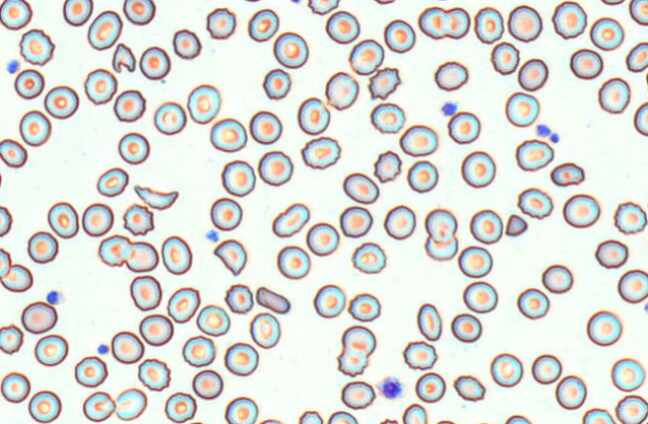PLT: (375, 375, 402, 401), (439, 101, 460, 116), (535, 122, 554, 138), (45, 290, 62, 306), (5, 60, 21, 75), (205, 230, 221, 245), (95, 343, 111, 356), (548, 132, 561, 144)
RBC: (417, 6, 470, 39), (186, 83, 221, 124), (551, 0, 587, 39), (87, 10, 122, 50), (324, 71, 359, 110), (300, 136, 341, 169), (348, 38, 384, 75), (507, 4, 542, 42), (220, 159, 255, 197), (562, 193, 600, 228), (460, 150, 495, 188), (209, 117, 247, 152), (257, 150, 293, 186), (586, 310, 622, 346), (19, 28, 54, 65), (273, 31, 308, 68), (515, 138, 554, 171), (297, 96, 330, 135), (504, 91, 539, 127), (597, 77, 631, 114), (83, 68, 117, 105), (166, 286, 200, 323), (160, 235, 192, 274), (399, 124, 438, 156), (610, 357, 645, 392), (589, 16, 624, 51), (21, 300, 57, 334), (469, 208, 503, 244), (325, 10, 360, 44), (44, 85, 79, 119), (489, 352, 523, 387), (129, 275, 162, 311), (383, 204, 416, 240), (47, 201, 79, 238), (342, 172, 379, 204), (19, 109, 51, 146), (473, 6, 504, 44), (110, 330, 144, 364), (224, 342, 258, 376), (276, 245, 310, 279), (138, 313, 173, 346), (462, 280, 497, 313), (457, 245, 492, 278), (351, 241, 386, 274), (517, 187, 553, 219), (424, 208, 457, 242), (367, 66, 400, 100), (137, 358, 171, 391), (81, 202, 114, 236), (613, 201, 647, 234), (209, 197, 242, 231), (153, 101, 186, 135), (306, 222, 339, 256), (28, 389, 61, 423), (447, 110, 480, 144), (249, 110, 282, 144), (341, 325, 376, 357), (313, 283, 345, 318), (383, 18, 415, 53), (249, 312, 280, 348), (114, 387, 147, 420), (98, 234, 131, 267), (113, 89, 146, 122), (117, 131, 150, 164), (124, 240, 158, 272), (406, 159, 438, 193), (196, 304, 230, 336), (74, 355, 108, 387), (34, 334, 68, 366), (339, 205, 373, 237), (247, 8, 279, 42), (555, 374, 586, 409), (370, 102, 405, 133), (433, 60, 468, 91), (139, 45, 170, 80), (122, 203, 154, 236), (516, 287, 549, 319), (164, 391, 197, 423), (182, 335, 215, 367), (569, 48, 603, 79), (402, 340, 437, 370), (517, 58, 548, 91), (27, 230, 58, 263), (82, 391, 115, 422), (617, 269, 647, 303), (340, 380, 375, 409), (416, 302, 442, 341), (96, 166, 128, 197), (205, 7, 236, 39), (347, 292, 380, 322), (490, 41, 519, 75), (594, 239, 628, 268), (414, 371, 445, 402), (0, 0, 32, 30), (0, 371, 30, 403), (541, 263, 573, 293), (0, 263, 33, 292), (373, 150, 402, 183), (224, 283, 254, 314), (531, 354, 562, 384), (192, 369, 223, 399), (14, 68, 44, 99), (450, 312, 481, 342), (615, 394, 647, 423), (262, 68, 291, 100), (224, 396, 258, 423), (172, 28, 201, 59), (336, 348, 368, 376), (424, 235, 458, 261), (122, 0, 155, 25), (0, 138, 27, 168), (62, 0, 93, 26), (0, 323, 23, 354), (625, 41, 647, 72), (582, 407, 615, 423), (402, 403, 427, 423), (633, 101, 647, 136), (307, 0, 339, 15), (629, 0, 647, 25), (326, 410, 358, 423), (0, 205, 12, 237), (0, 247, 11, 278), (298, 410, 323, 423), (504, 414, 531, 423), (258, 418, 283, 423), (600, 0, 625, 5), (373, 0, 396, 5), (379, 418, 398, 423), (435, 419, 455, 423), (241, 0, 262, 3)
Schistocyte: (133, 183, 180, 213), (212, 239, 249, 277), (255, 285, 293, 315), (452, 375, 487, 403), (551, 162, 587, 188), (111, 42, 136, 74), (504, 214, 529, 240)
